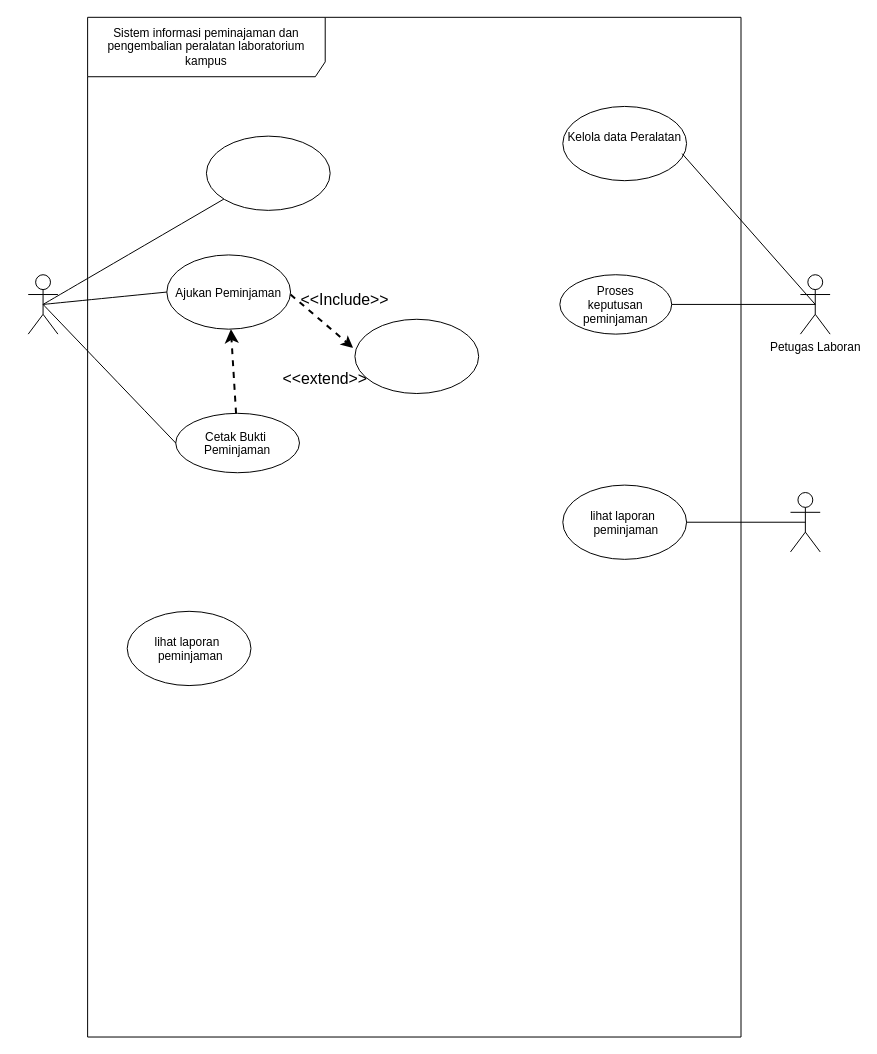
The diagram is 877 pixels wide and 1054 high, and some of its shapes have lost their labels. The box of each missing label's shape, as (x1, y1, x2, y2) in pixels:
Kepala Laboran: (790, 492, 820, 552)
Lihat Ketersediaan peralatan: (205, 135, 330, 210)
Peminjam: (27, 274, 58, 334)
Periksa ketersediaan: (354, 318, 479, 394)
